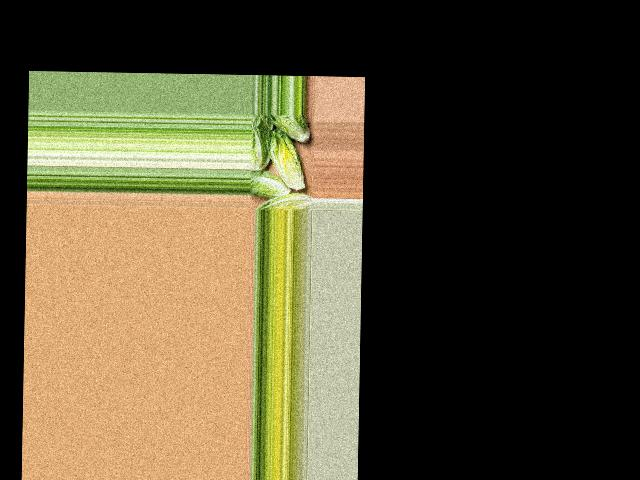lettuce: (257, 190, 312, 211)
